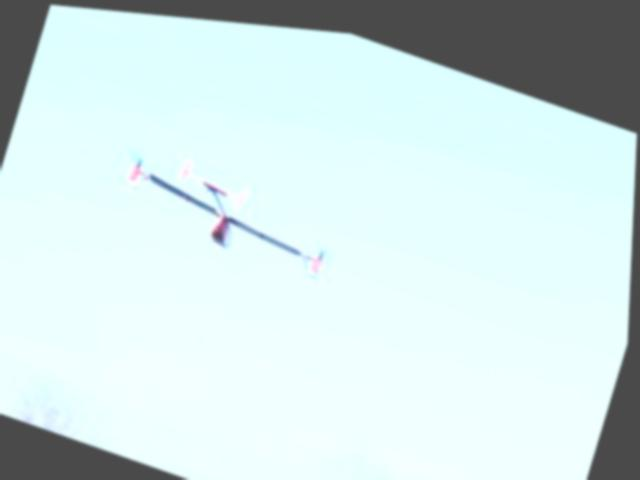uav: (107, 128, 348, 283)
